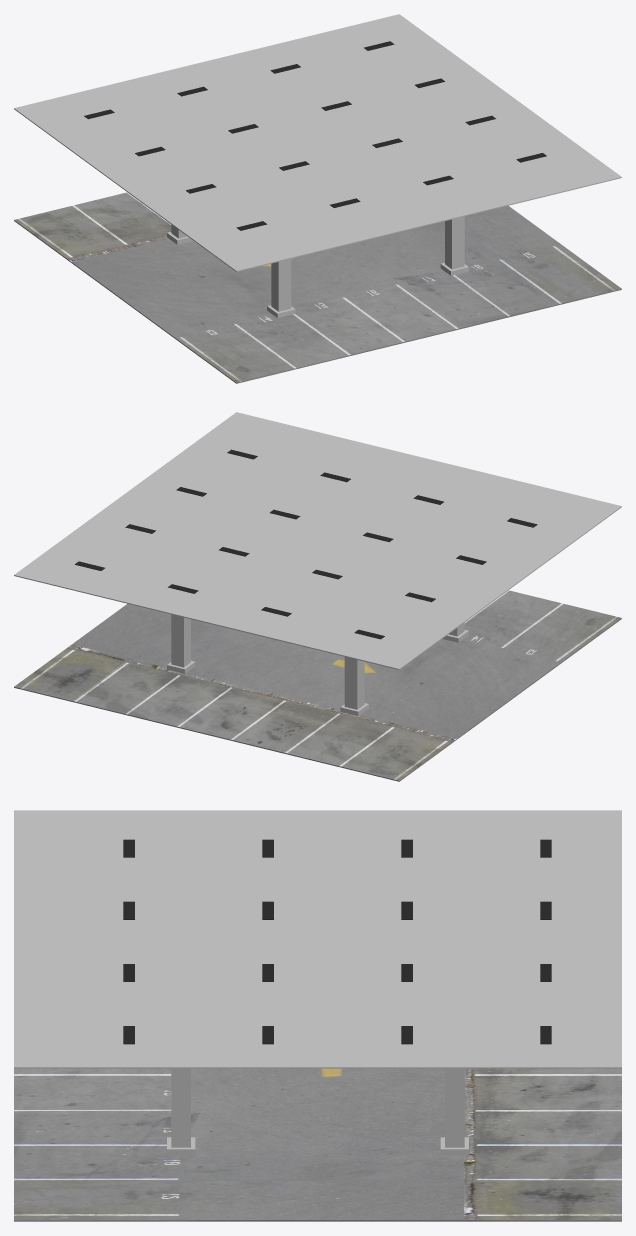
Rendered from garage.obj.
The picture shows the model from 3 angles, top to bottom: view 1: azimuth 30°, elevation 25°; view 2: azimuth 150°, elevation 25°; view 3: azimuth 270°, elevation 25°; orthographic projection. The views are drawn at different scales.
Visible parts, largest first — view 1: Cube.005, Cube, Cube.006, Cube.004, Cube.003; view 2: Cube.005, Cube, Cube.006, Cube.002, Cube.001; view 3: Cube.005, Cube, Cube.006, Cube.001, Cube.003.
Boxes of the visible parts, x1,y1,x2,y2 form: Cube.005: [14, 14, 621, 271]; Cube: [14, 192, 621, 383]; Cube.006: [84, 41, 546, 230]; Cube.004: [267, 259, 295, 317]; Cube.003: [440, 216, 468, 275]; Cube.005: [14, 412, 621, 669]; Cube: [14, 590, 621, 781]; Cube.006: [75, 449, 537, 639]; Cube.002: [340, 657, 368, 715]; Cube.001: [167, 614, 195, 673]; Cube.005: [14, 810, 621, 1068]; Cube: [14, 1068, 621, 1221]; Cube.006: [123, 839, 551, 1044]; Cube.001: [440, 1068, 468, 1155]; Cube.003: [167, 1068, 195, 1155].
Bounding box in the file's own units: 200 × 56.06 × 200.
